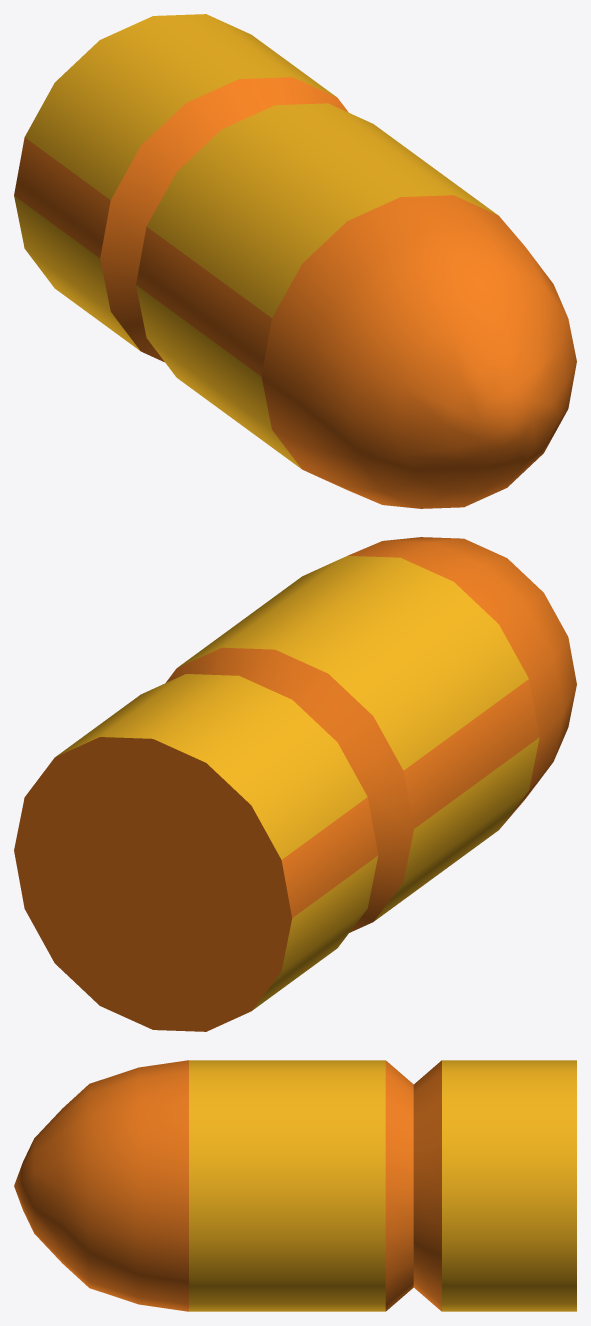
Rendered from SM_Bullet.fbx.
3 views of the same model, one above another, from view 1: azimuth 30°, elevation 25°; view 2: azimuth 150°, elevation 25°; view 3: azimuth 270°, elevation 25° (orthographic). The views are drawn at different scales.
Visible parts, largest first — view 1: SM_Bullet; view 2: SM_Bullet; view 3: SM_Bullet.
Part boxes in pixels (x1=…): SM_Bullet: x1=14, y1=14, x2=576, y2=508; SM_Bullet: x1=14, y1=537, x2=576, y2=1031; SM_Bullet: x1=14, y1=1060, x2=576, y2=1311.
Size of the model in its own units: 0.1005 by 0.1005 by 0.2248.
